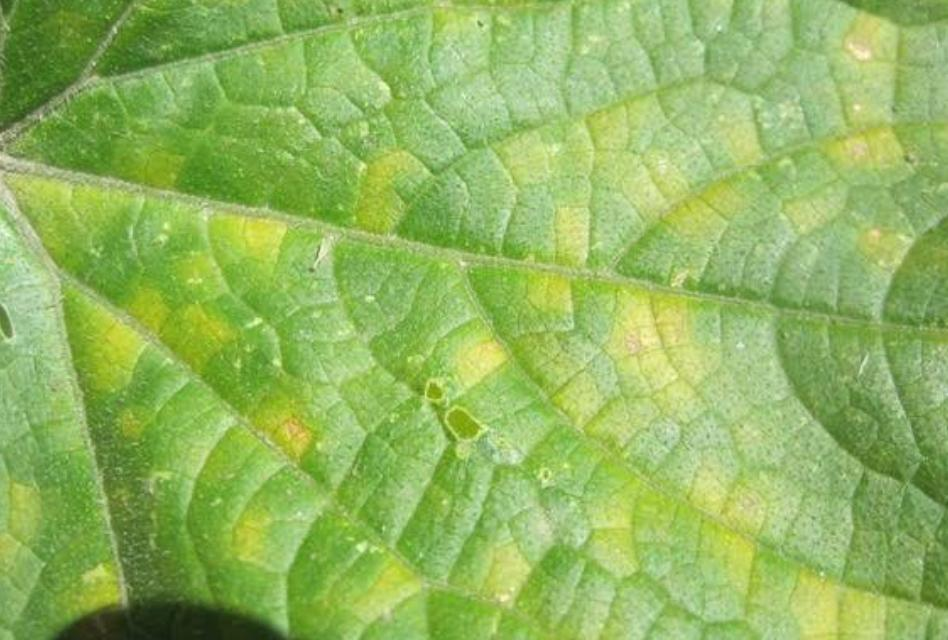Bok-Choy-Diseased: (19, 47, 926, 584)
